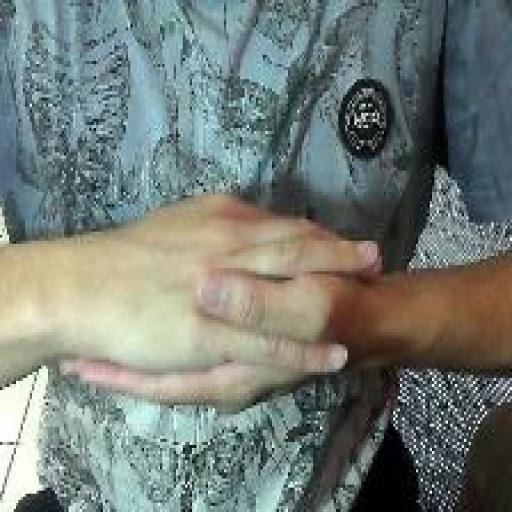Saru -monkey-: (56, 184, 387, 426)
